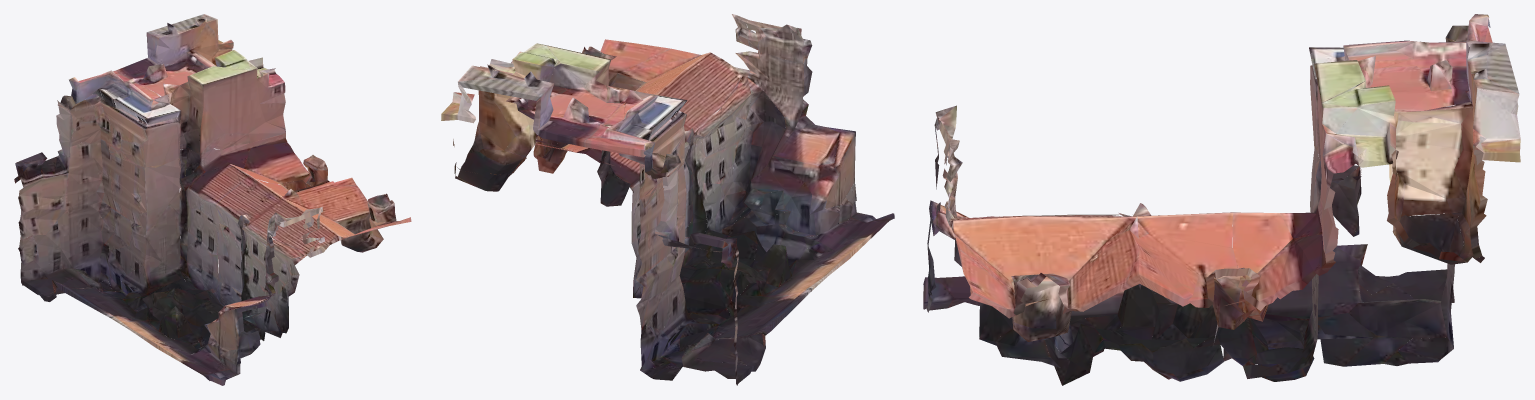
3 renders of one model, left to right at view 1: azimuth 30°, elevation 25°; view 2: azimuth 150°, elevation 25°; view 3: azimuth 270°, elevation 25°, orthographic. The views are drawn at different scales.
Visible parts, largest first — view 1: Mesh_0; view 2: Mesh_0; view 3: Mesh_0.
Part boxes in pixels (x1=…): Mesh_0: x1=14, y1=14, x2=411, y2=385; Mesh_0: x1=441, y1=14, x2=894, y2=385; Mesh_0: x1=923, y1=14, x2=1520, y2=385.
Size of the model in its own units: 33.31 by 30.02 by 41.08.
Materials: 2 (2 with a texture image).
